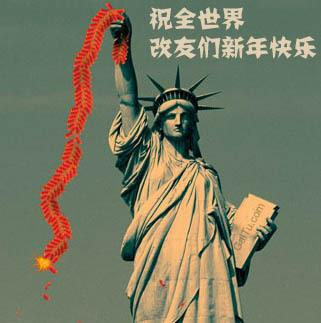Statue_of_Liberty: (94, 6, 282, 318)
